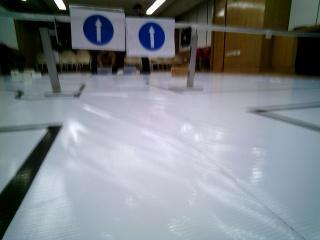straight: (69, 3, 126, 48), (126, 14, 176, 59)
